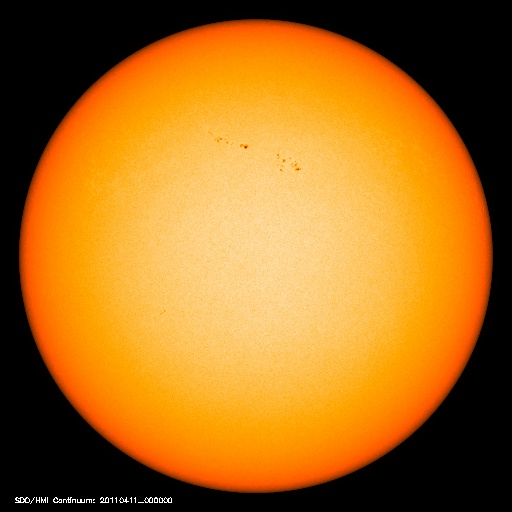sunspot: (198, 120, 310, 177)
